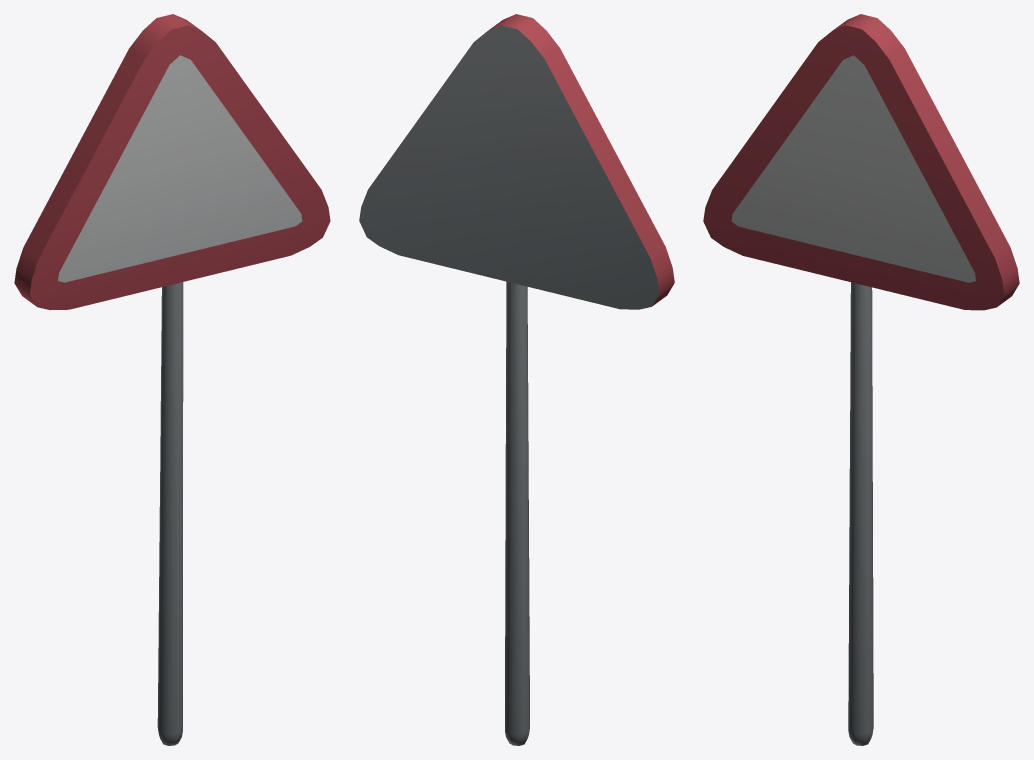
Rendered from RoadSign.fbx.
The picture shows the model from 3 angles, left to right: view 1: azimuth 30°, elevation 25°; view 2: azimuth 150°, elevation 25°; view 3: azimuth 330°, elevation 25°; orthographic projection.
Parts seen in each view (by area): view 1: RoadSign; view 2: RoadSign; view 3: RoadSign.
Boxes of the visible parts, bbox=[...] form: RoadSign: bbox=[14, 14, 330, 745]; RoadSign: bbox=[359, 14, 674, 745]; RoadSign: bbox=[703, 14, 1019, 745].
Size of the model in its own units: 90.36 by 8 by 207.
